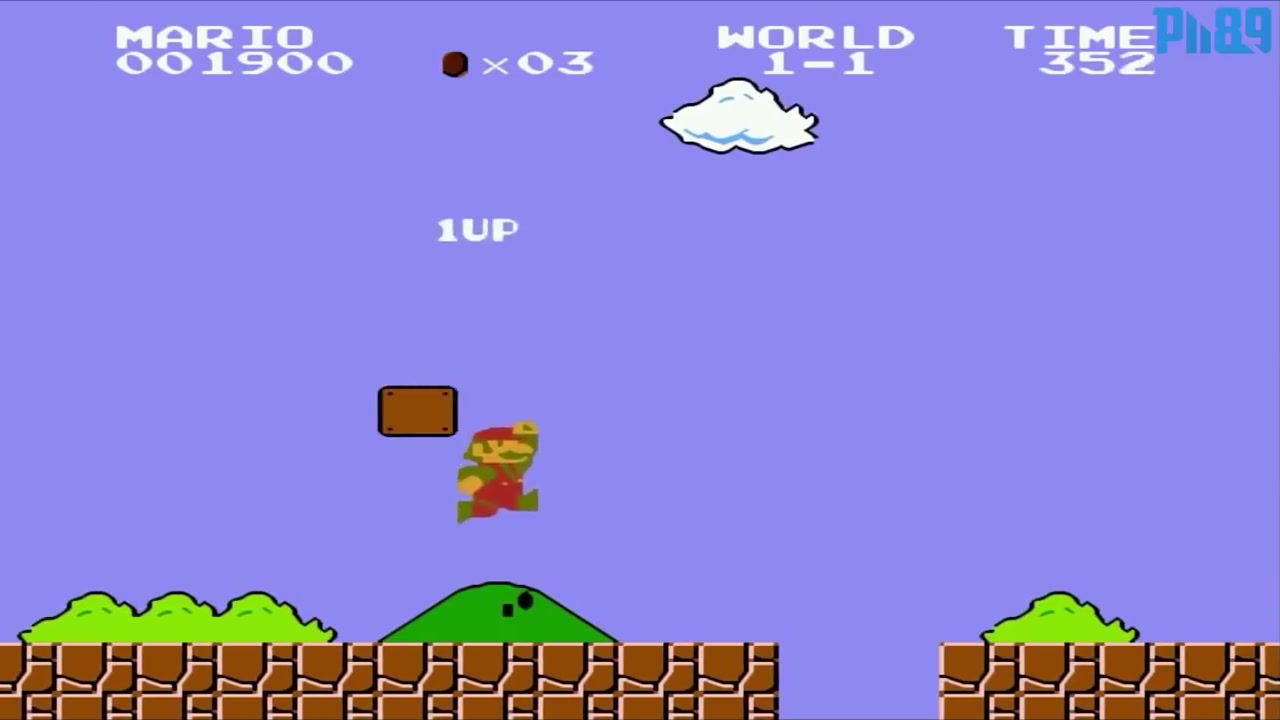mario: (429, 412, 545, 528)
